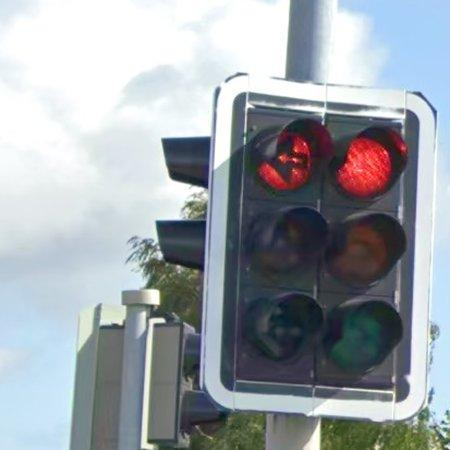traffic lights: (202, 72, 435, 419), (157, 127, 214, 271)
